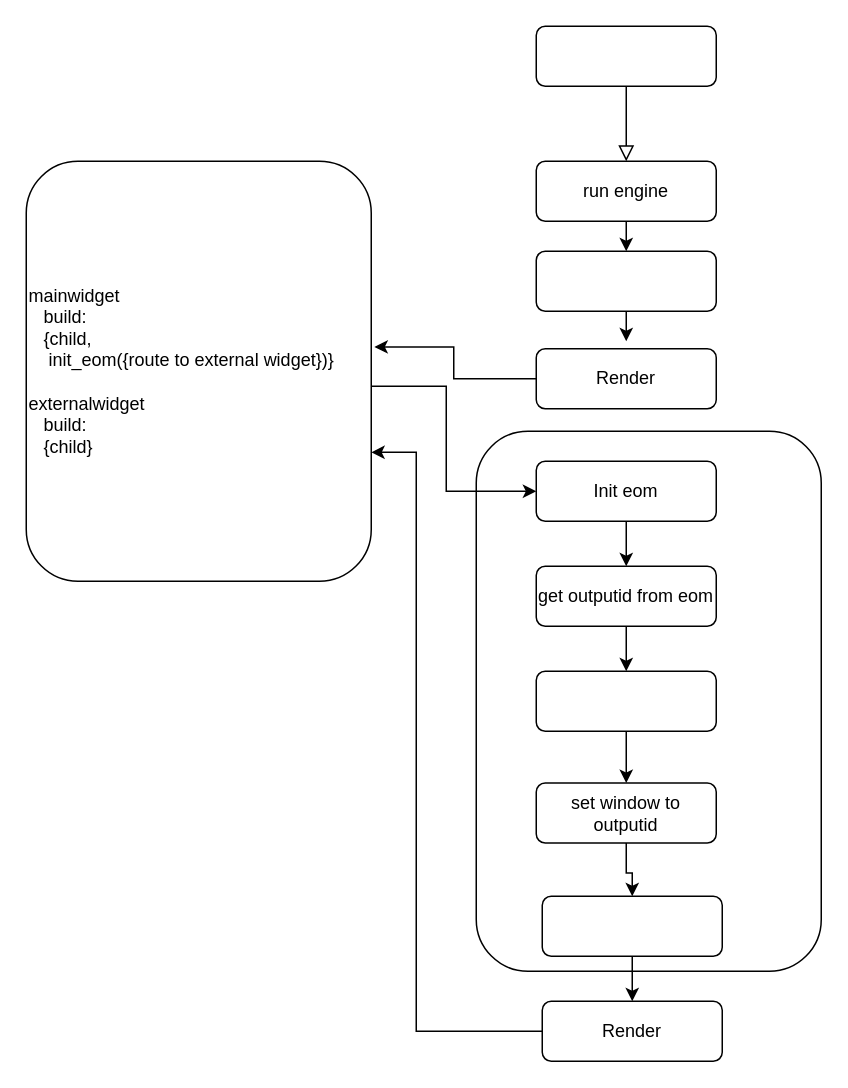
The diagram is 848 pixels wide and 1088 high, and some of its shapes have lost their labels. The shapes that lost their labels are listed below. From the top down, each one's centre as x and y in pixels, then its label:
the point at 625,55: app launch
the point at 625,280: Create main window
the point at 625,700: create new flutter engine
the point at 631,925: set {route to external widget} to engine
